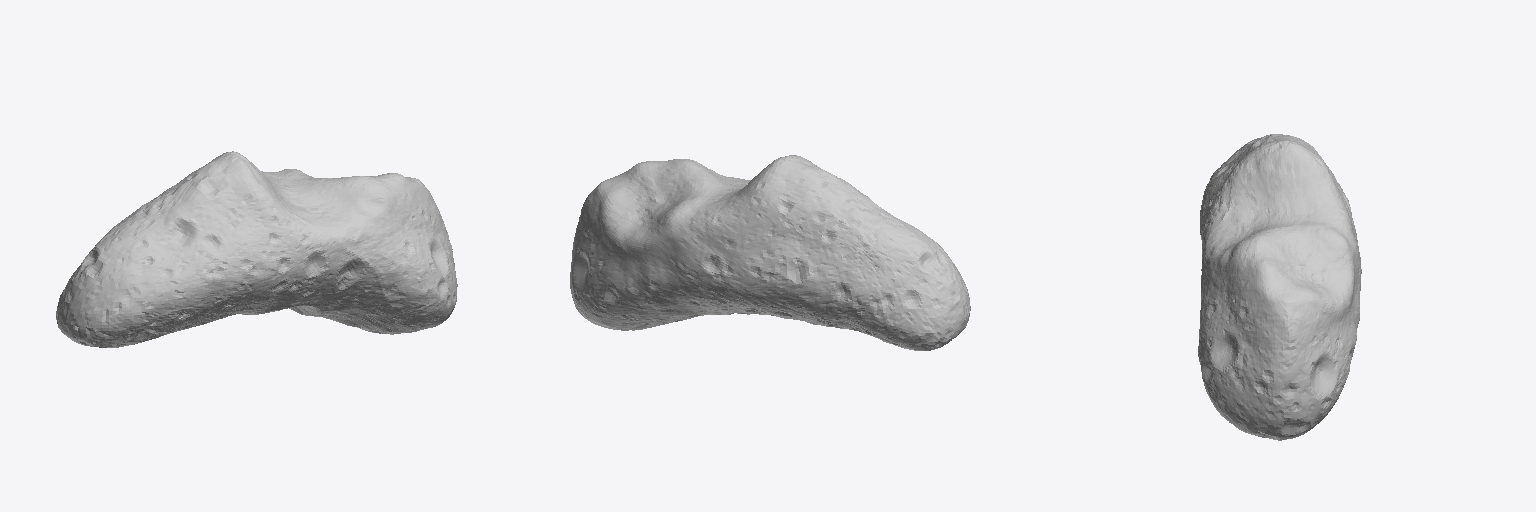
Rendered from Eros_Gaskell_50k_poly_scaled.obj.
3 views of the same model, side by side, from view 1: azimuth 30°, elevation 25°; view 2: azimuth 150°, elevation 25°; view 3: azimuth 270°, elevation 25° (orthographic).
Bounding box in the file's own units: 0.0237 × 0.0122 × 0.0087.